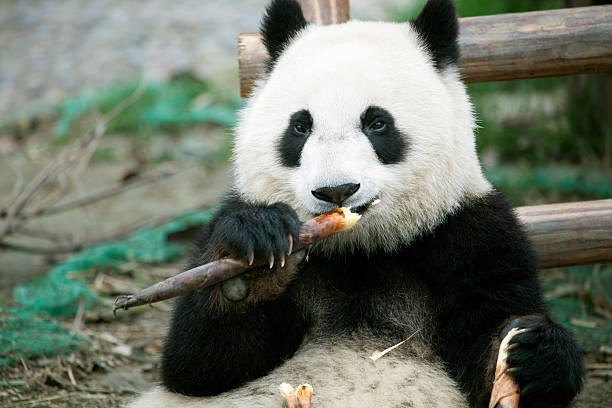panda: (225, 1, 511, 249)
